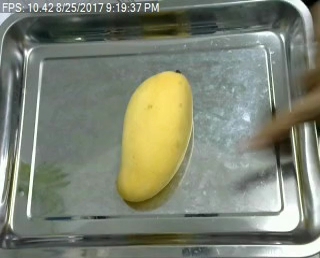Mango: (116, 67, 195, 202)
